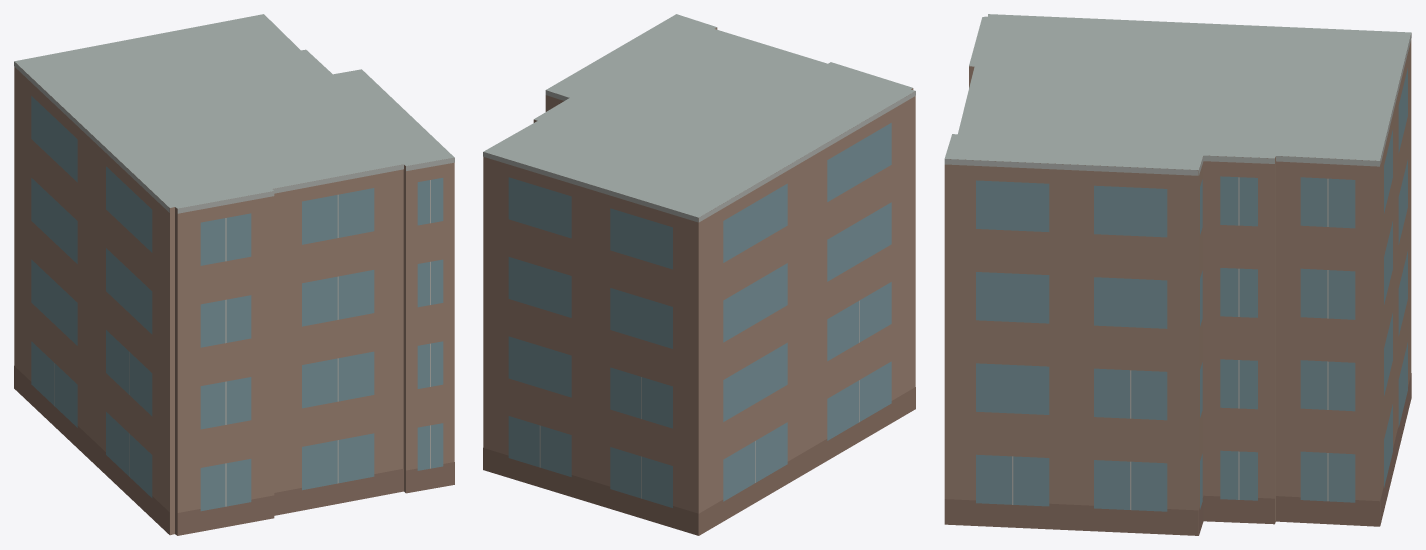
Rendered from survey-upis-32808992.glb.
3 renders of one model, left to right at view 1: azimuth 30°, elevation 25°; view 2: azimuth 150°, elevation 25°; view 3: azimuth 270°, elevation 25°, orthographic. The views are drawn at different scales.
Parts seen in each view (by area): view 1: survey-upis-32808992.tmp; view 2: survey-upis-32808992.tmp; view 3: survey-upis-32808992.tmp.
Boxes of the visible parts, <box> form: survey-upis-32808992.tmp: <box>14,14,454,535</box>; survey-upis-32808992.tmp: <box>483,14,915,535</box>; survey-upis-32808992.tmp: <box>944,14,1411,535</box>.
Bounding box in the file's own units: 14.43 × 15.75 × 18.23.
